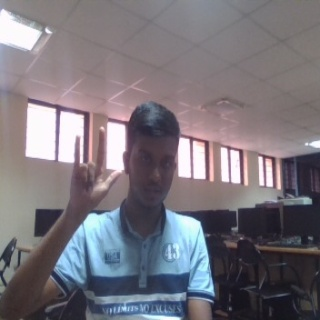Face: (122, 101, 181, 212)
I Love You: (68, 126, 124, 213)
